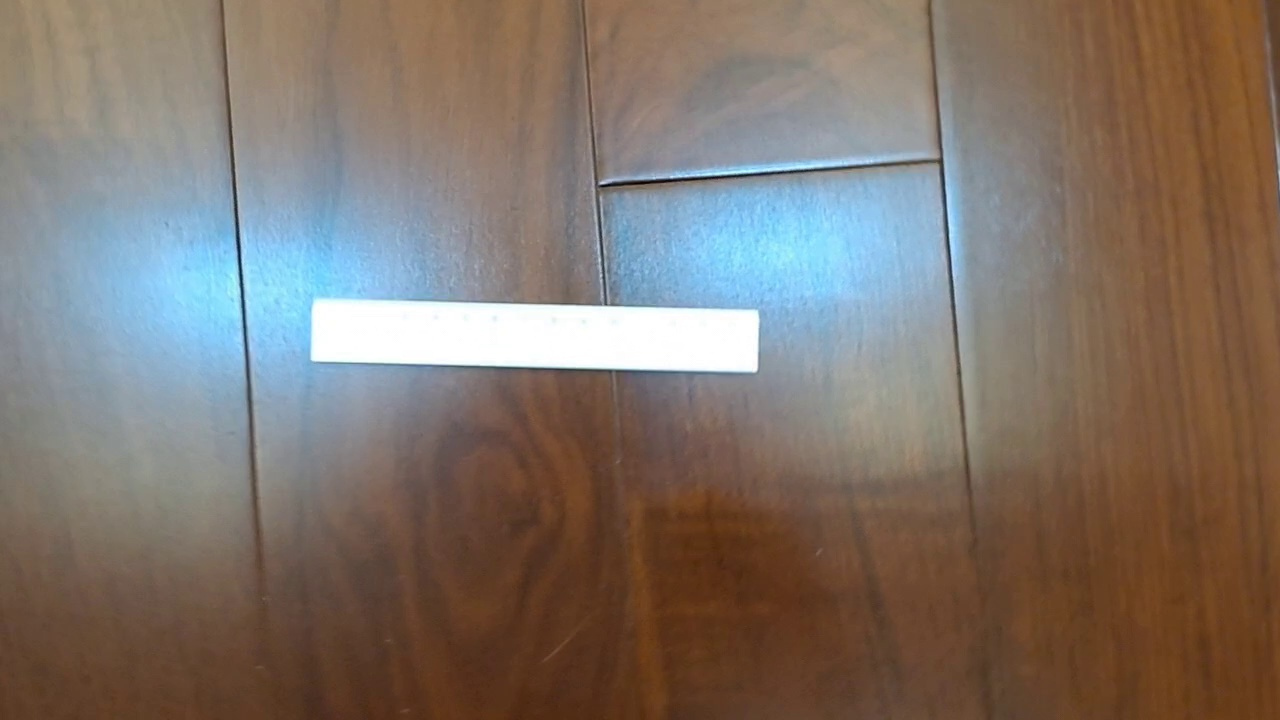ruler: (309, 296, 760, 373)
